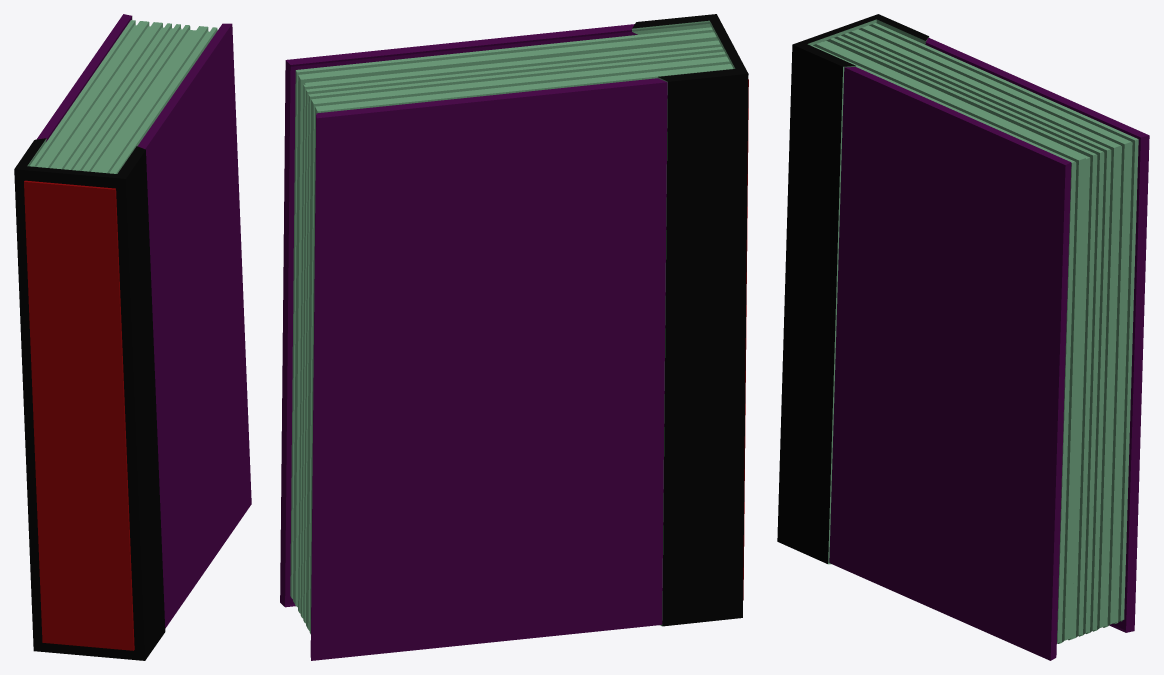
The model's file is ThirdShelfBook8.fbx.
The picture shows the model from 3 angles, left to right: view 1: azimuth 30°, elevation 25°; view 2: azimuth 150°, elevation 25°; view 3: azimuth 270°, elevation 25°; orthographic projection. The views are drawn at different scales.
Visible parts, largest first — view 1: Book.010; view 2: Book.010; view 3: Book.010.
Boxes of the visible parts, <box> form: Book.010: <box>14,14,251,660</box>; Book.010: <box>280,14,748,660</box>; Book.010: <box>777,14,1149,660</box>.
Size of the model in its own units: 122 by 176 by 120.
